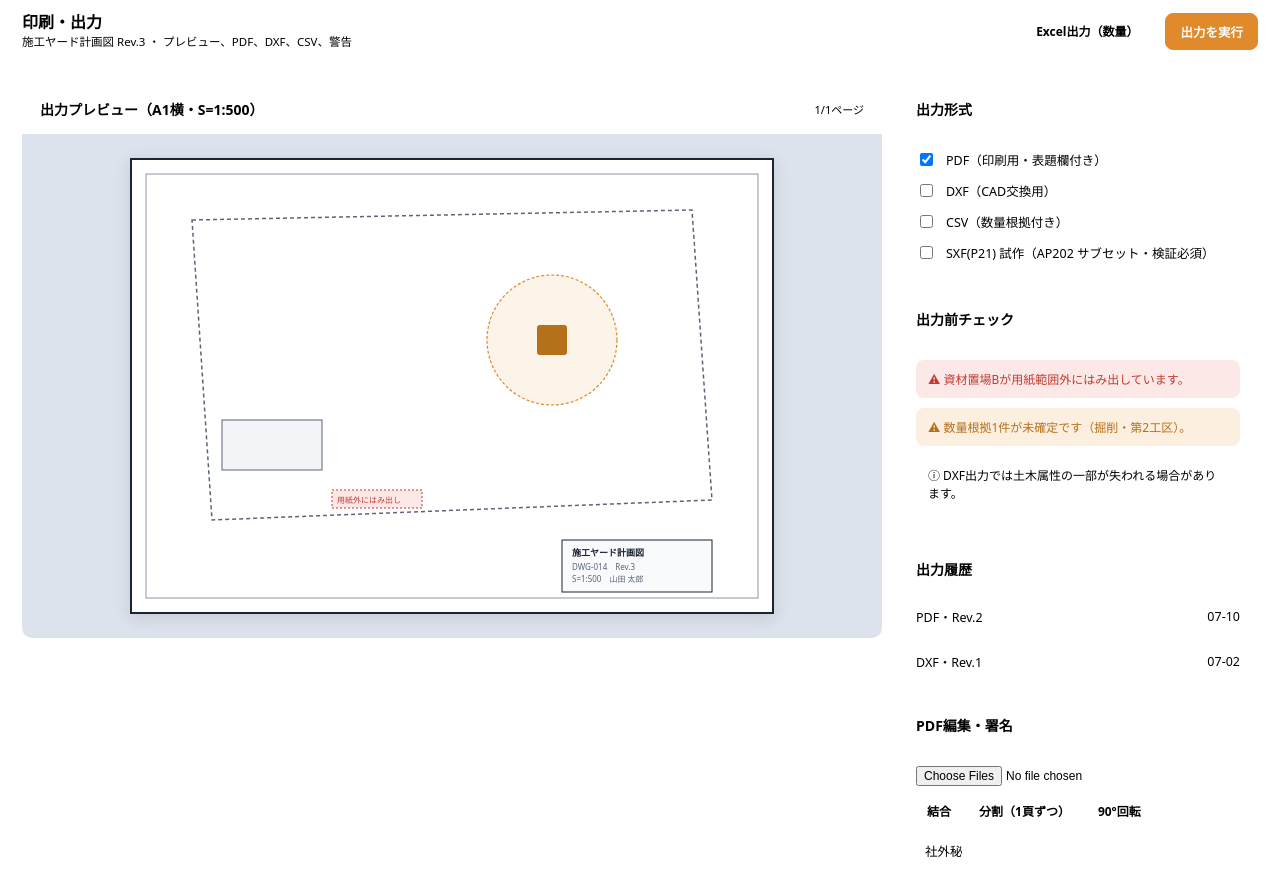
PrintExportPage › 指定された出力画面を表示し、PDF/DXF/CSVを出力して履歴へ追加する
expect the text "施工ヤード計画図 Rev.3 ・ プレビュー、PDF、DXF、CSV、警告" is shown: met, box [22,33,352,49]
expect the text "出力プレビュー（A1横・S=1:500）" is shown: met, box [40,100,263,119]
Click the checkbox labelled "DXF（CAD交換用）" at (926, 190), box [920,184,933,197]
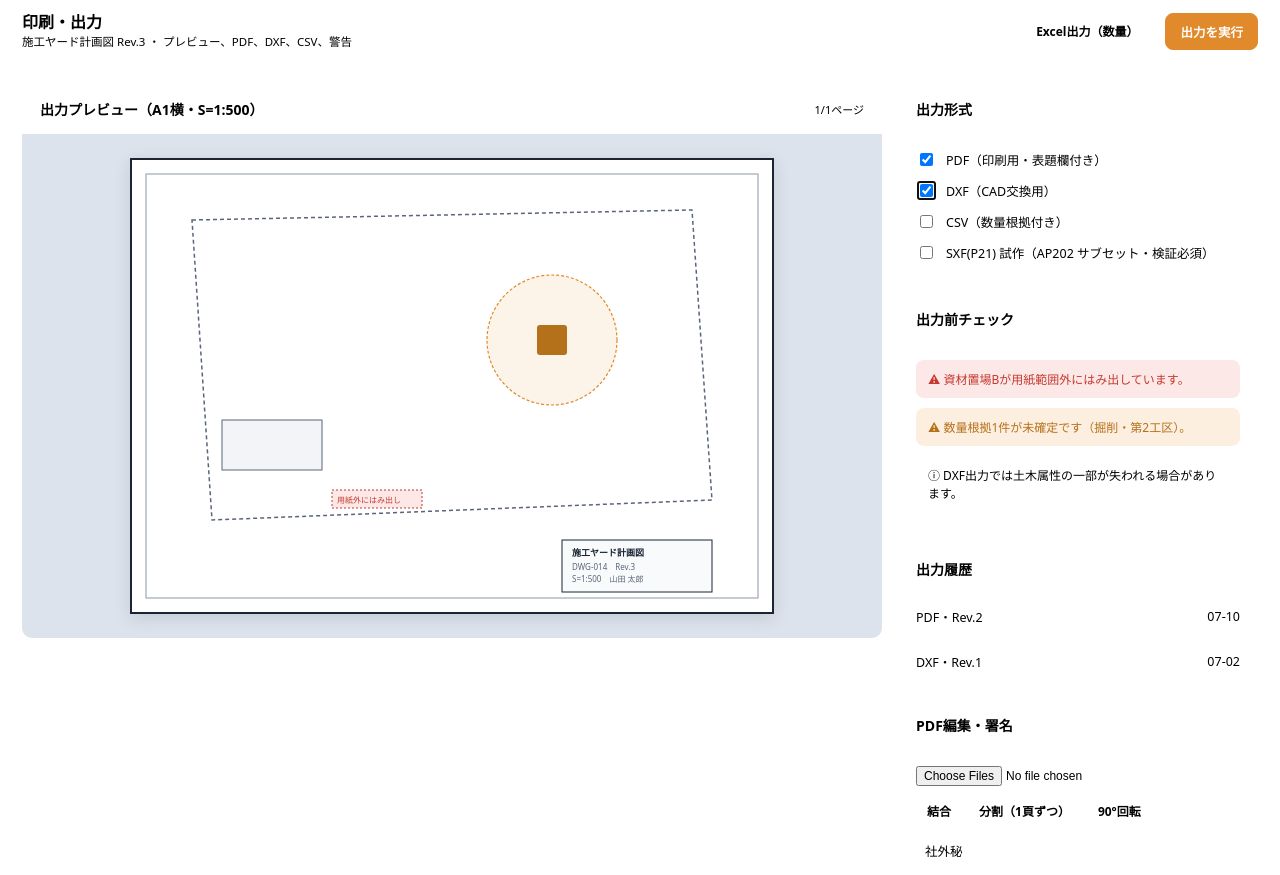
Click the checkbox labelled "CSV（数量根拠付き）" at (926, 222), box [920,215,933,228]
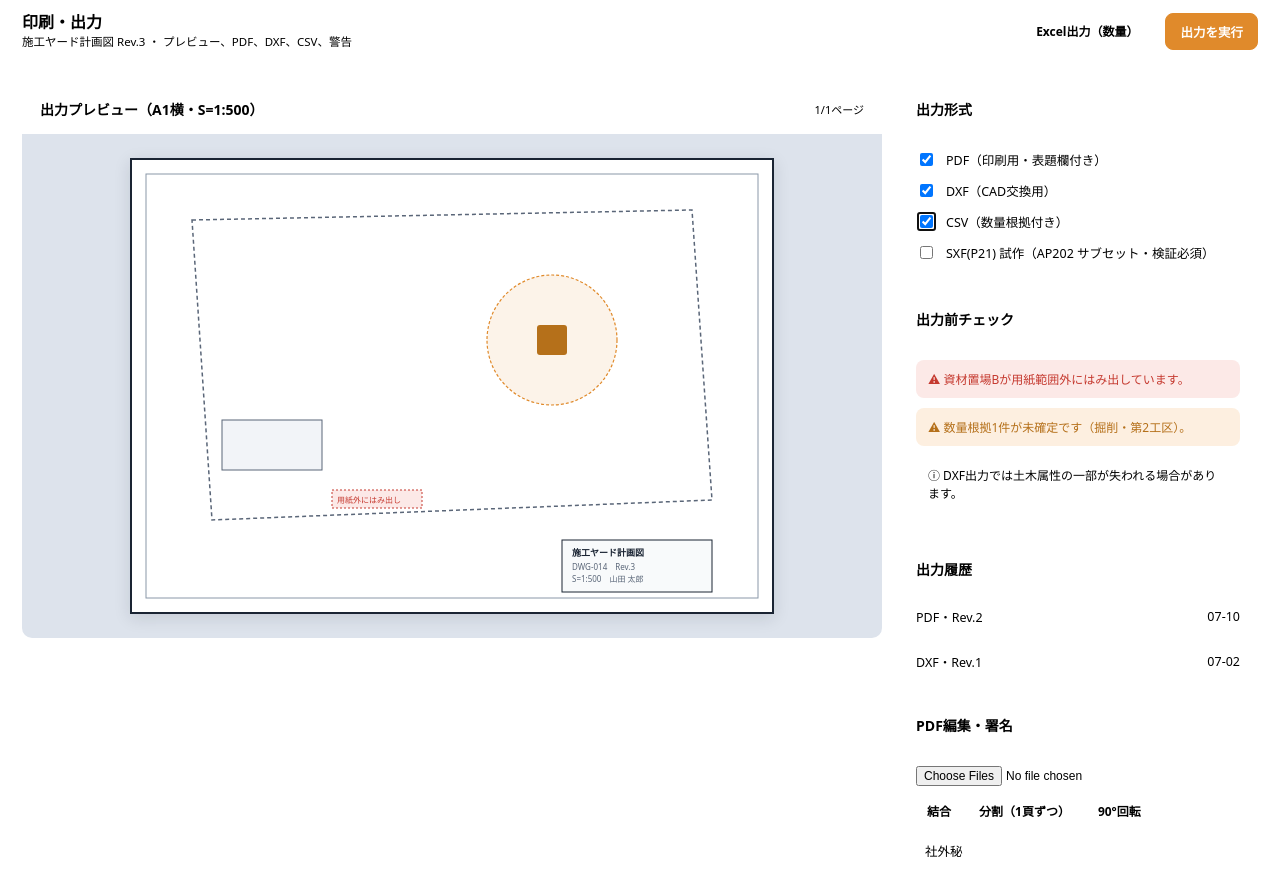
Click the button "出力を実行" at (1212, 31), box [1166,12,1258,50]
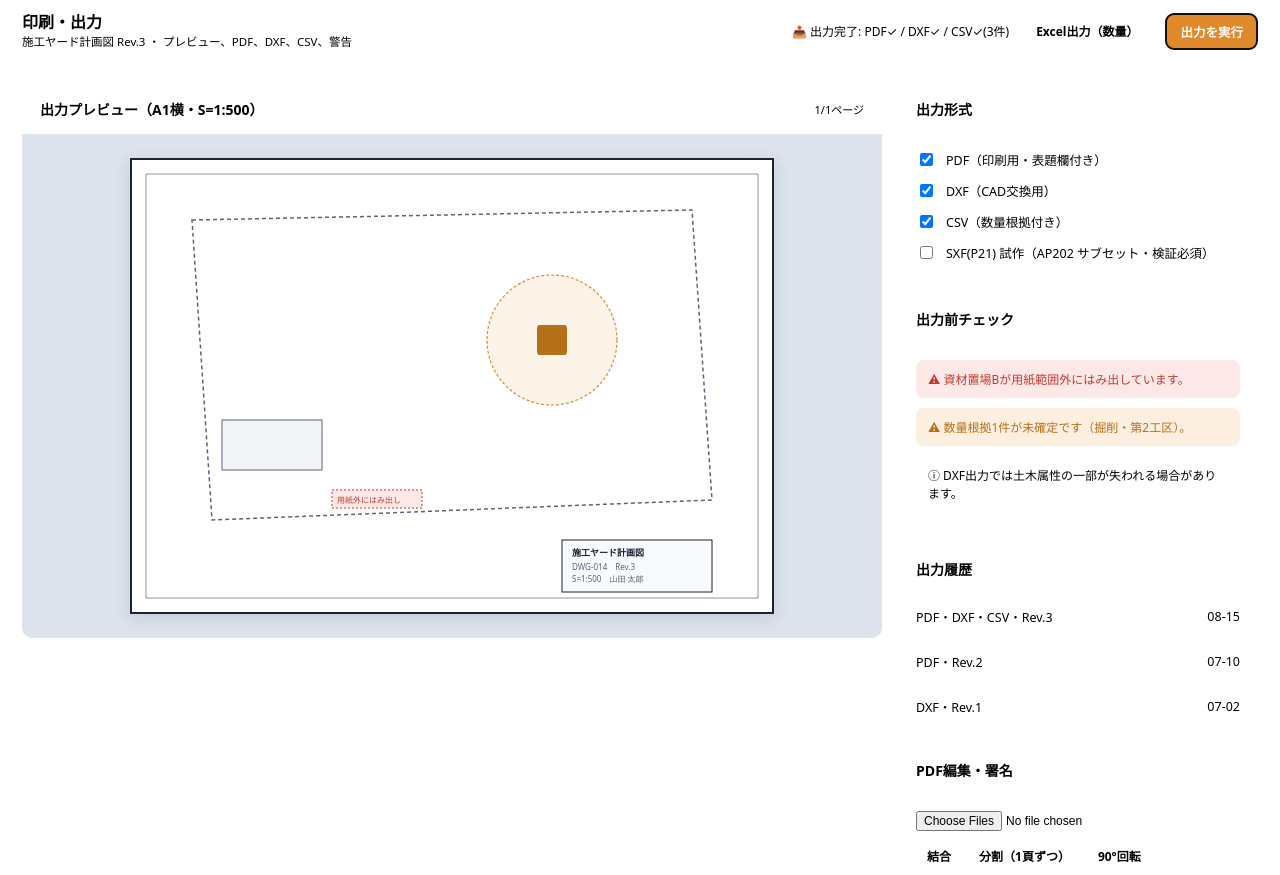
expect the text "📤 出力完了: PDF✓ / DXF✓ / CSV✓(3件)" is shown: met, box [792,22,1009,40]
expect the text "PDF・DXF・CSV・Rev.3" is shown: met, box [916,607,1053,626]
